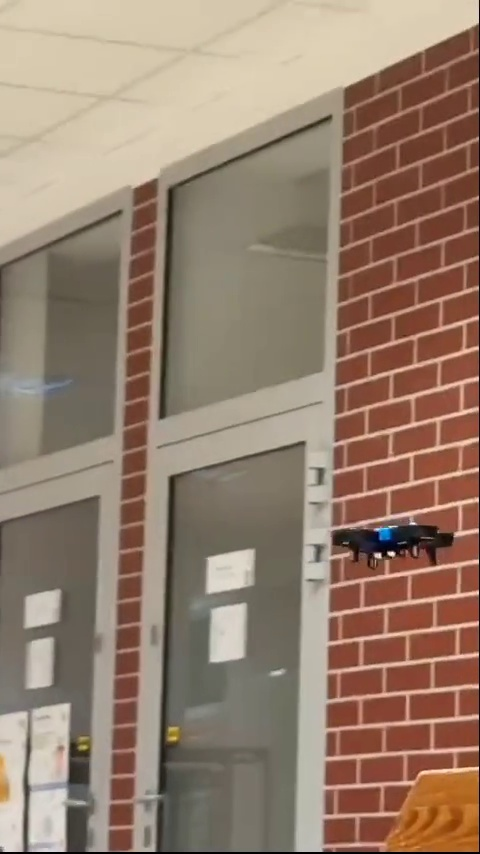drone: (322, 523, 457, 566)
